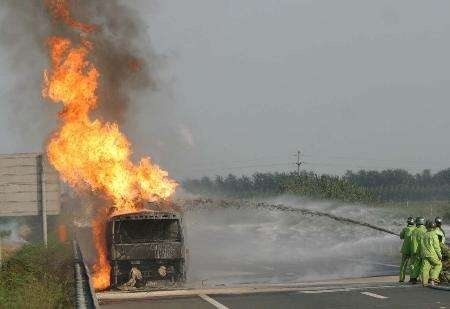fire: (40, 12, 178, 231)
